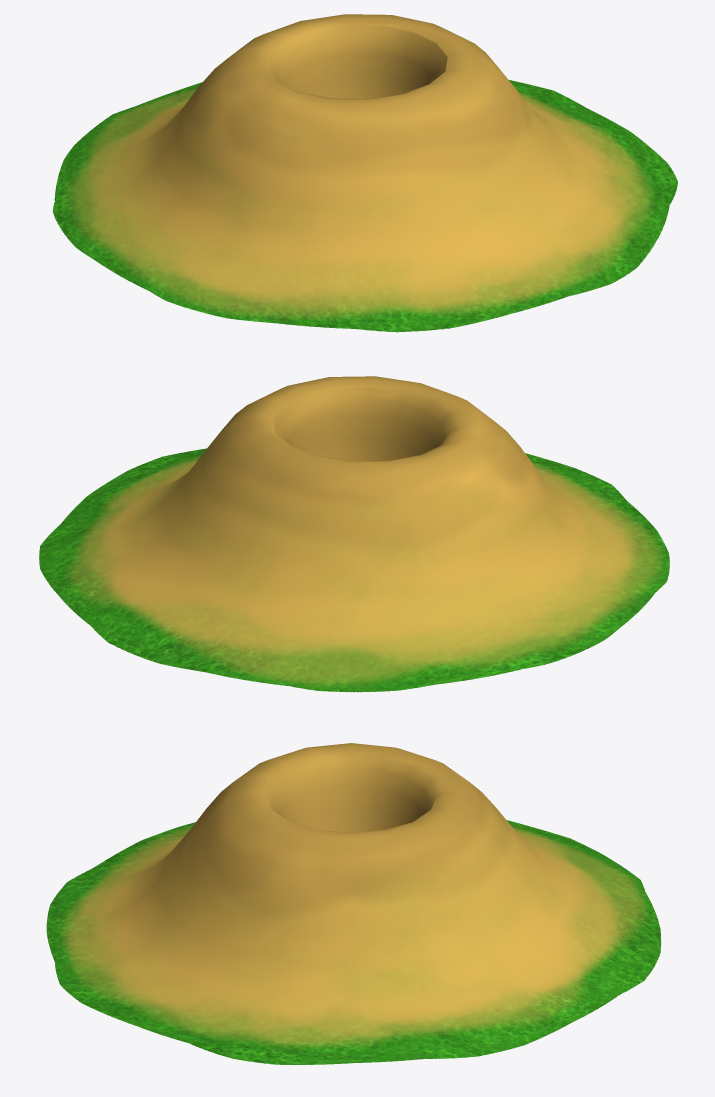
Rendered from jumpy_home.fbx.
The picture shows the model from 3 angles, top to bottom: view 1: azimuth 30°, elevation 25°; view 2: azimuth 150°, elevation 25°; view 3: azimuth 270°, elevation 25°; orthographic projection.
Visible parts, largest first — view 1: jumpy_home; view 2: jumpy_home; view 3: jumpy_home.
Boxes of the visible parts, x1,y1,x2,y2 form: jumpy_home: (52,14,677,332); jumpy_home: (39,376,669,692); jumpy_home: (46,743,661,1064).
Size of the model in its own units: 2.29 by 2.29 by 0.5332.
